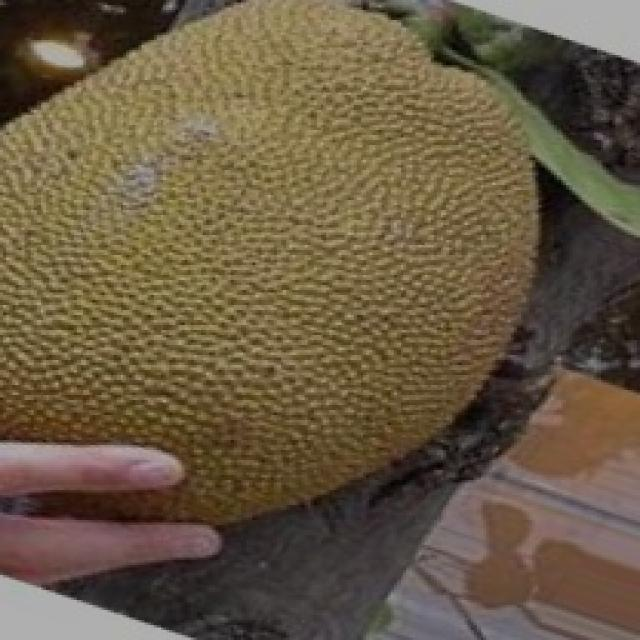Fruit: (262, 0, 616, 400)
